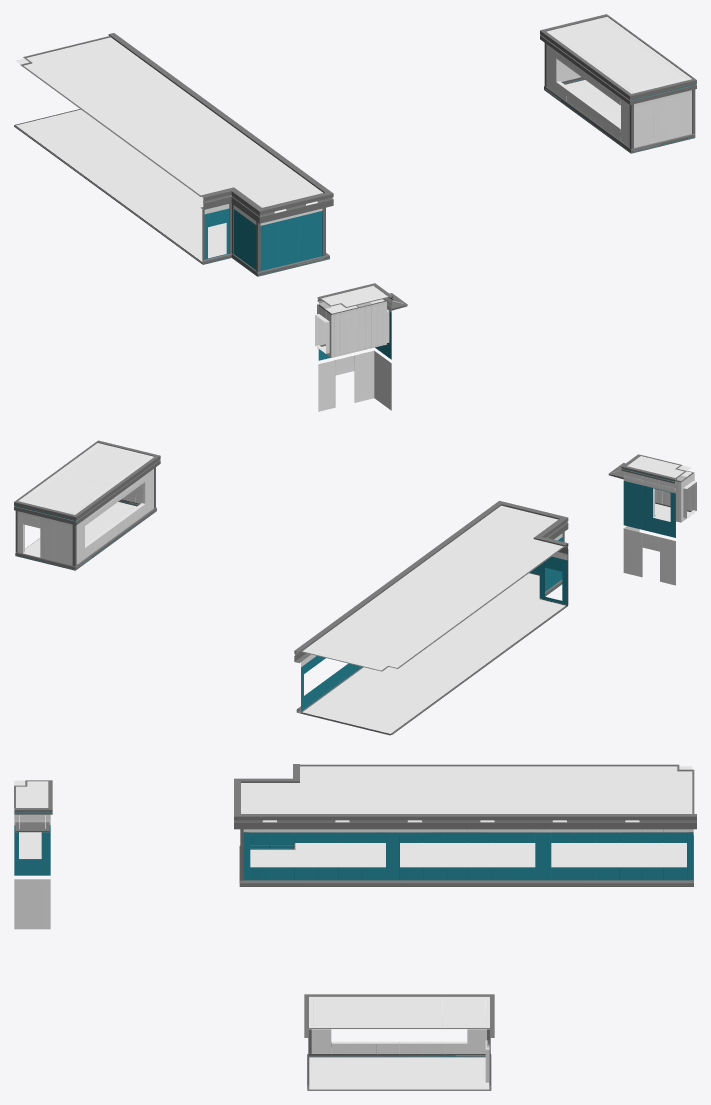
3 renders of one model, top to bottom at view 1: azimuth 30°, elevation 25°; view 2: azimuth 150°, elevation 25°; view 3: azimuth 270°, elevation 25°, orthographic. The views are drawn at different scales.
Visible parts, largest first — view 1: SM_H_Building_FutureTech_HLight_01_InterWall_12; view 2: SM_H_Building_FutureTech_HLight_01_InterWall_12; view 3: SM_H_Building_FutureTech_HLight_01_InterWall_12.
Boxes of the visible parts, x1=… form: SM_H_Building_FutureTech_HLight_01_InterWall_12: x1=14, y1=14, x2=696, y2=411; SM_H_Building_FutureTech_HLight_01_InterWall_12: x1=14, y1=440, x2=696, y2=735; SM_H_Building_FutureTech_HLight_01_InterWall_12: x1=14, y1=764, x2=696, y2=1090.
Size of the model in its own units: 1737 by 1568 by 383.
